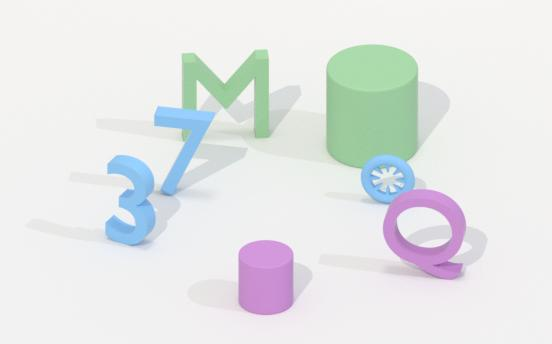3: (103, 150, 158, 252)
7: (149, 102, 217, 197)
M-hoa: (177, 48, 274, 150)
q: (377, 181, 470, 281)
tron: (361, 155, 416, 206)
tru: (322, 37, 421, 171), (234, 236, 299, 316)
